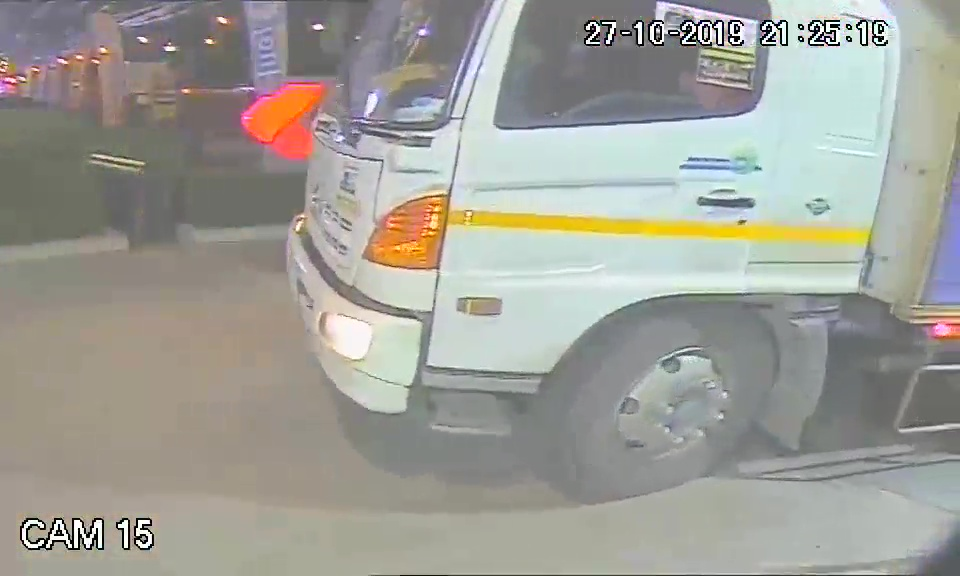truck: (283, 4, 901, 493)
